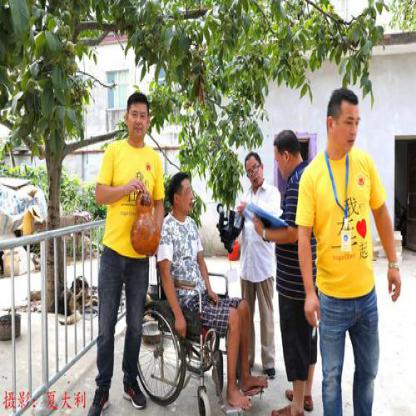wheelchair: (133, 171, 270, 415)
